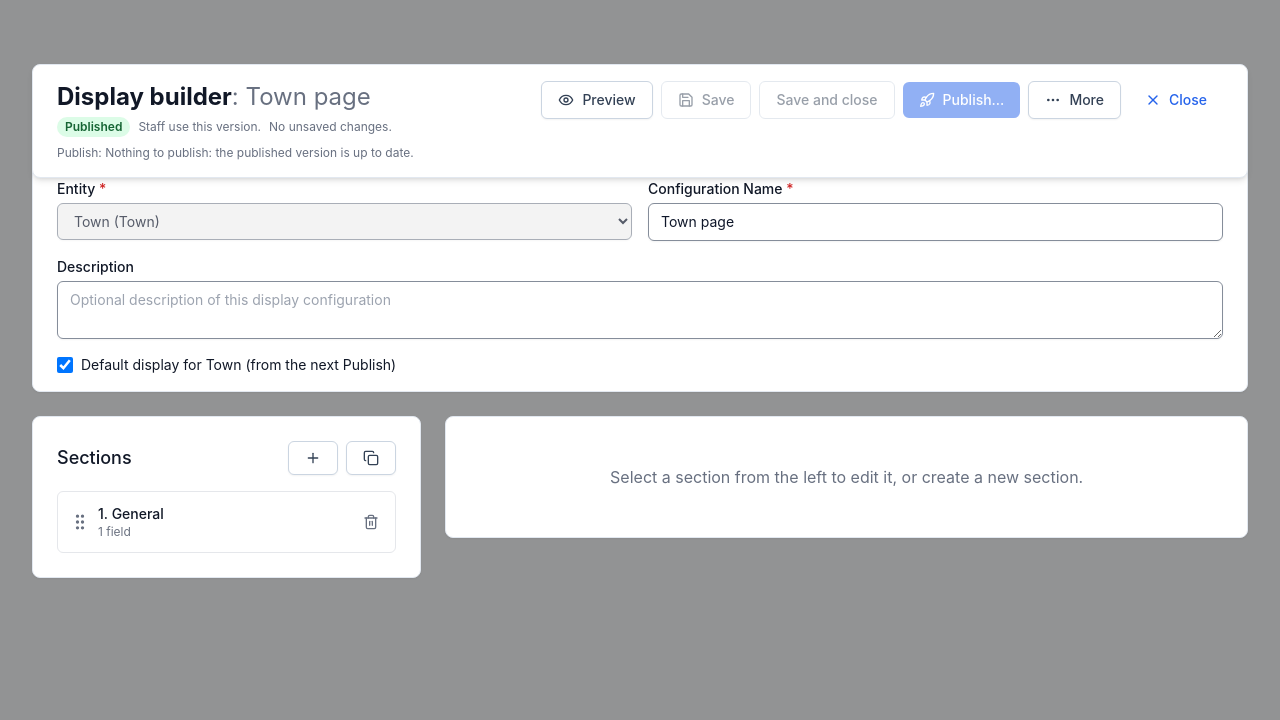
Test: the preview shows the page with sample values and no working buttons
Expected: the header with test id "builder-toolbar" is shown, [32,64,1248,178]
Click the button "Preview": (597, 100) [541,81,653,119]
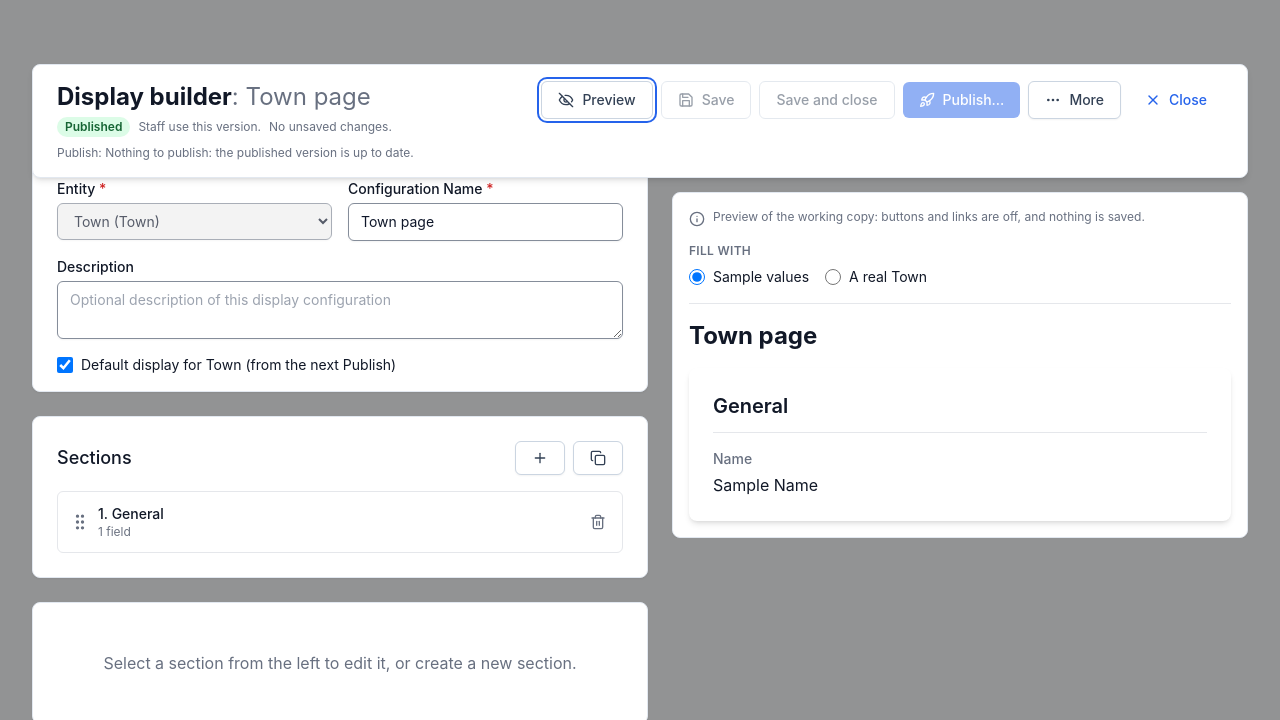
Now the heading "Town page" is shown, box [689,321,817,350]
Now the text "Sample Name" is shown, box [713,473,818,497]
